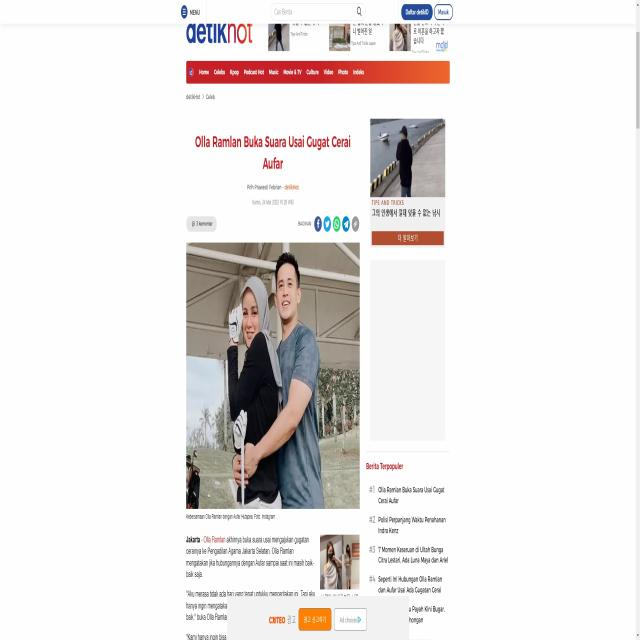search: (269, 2, 367, 20)
tab-bar: (186, 59, 368, 83)
